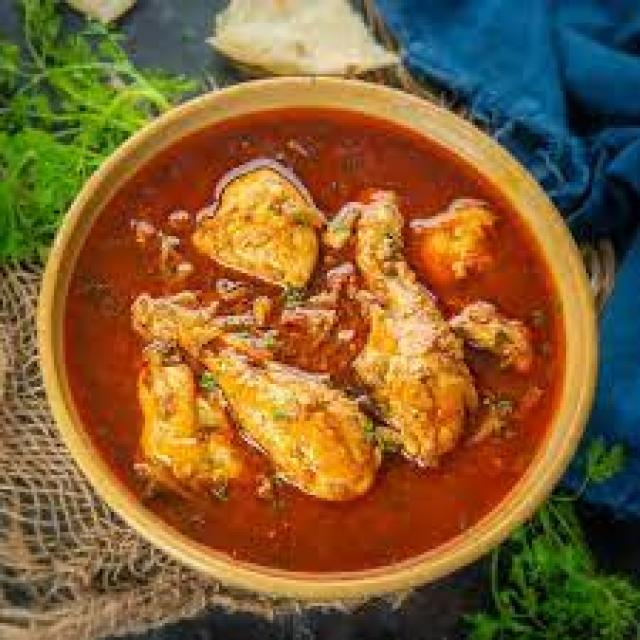Frango: (65, 108, 566, 580)
